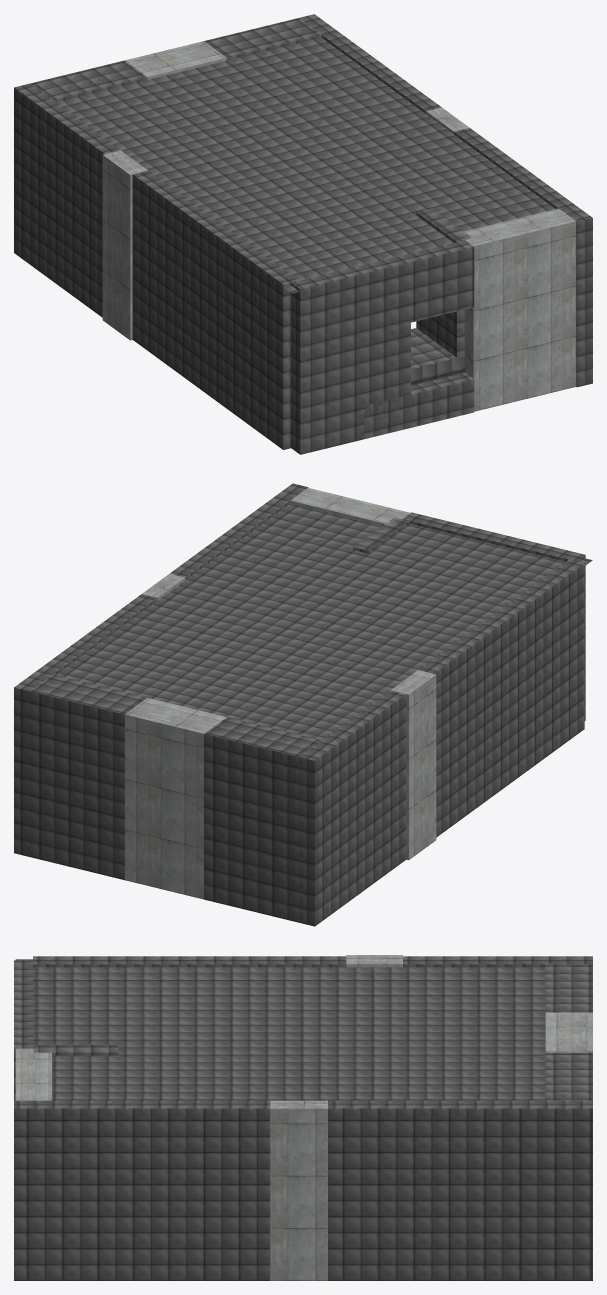
The model's file is Level_17.fbx.
3 renders of one model, top to bottom at view 1: azimuth 30°, elevation 25°; view 2: azimuth 150°, elevation 25°; view 3: azimuth 270°, elevation 25°, orthographic. The views are drawn at different scales.
Visible parts, largest first — view 1: NoTeleport.006, Wall.007; view 2: NoTeleport.006, Wall.007; view 3: NoTeleport.006, Wall.007.
Boxes of the visible parts, left/top/right/bottom form: NoTeleport.006: left=14, top=14, right=592, bottom=454; Wall.007: left=102, top=41, right=576, bottom=411; NoTeleport.006: left=14, top=483, right=592, bottom=926; Wall.007: left=125, top=488, right=436, bottom=899; NoTeleport.006: left=14, top=956, right=592, bottom=1280; Wall.007: left=15, top=955, right=592, bottom=1280.
Bounding box in the file's own units: 19.16 × 30.5 × 10.
